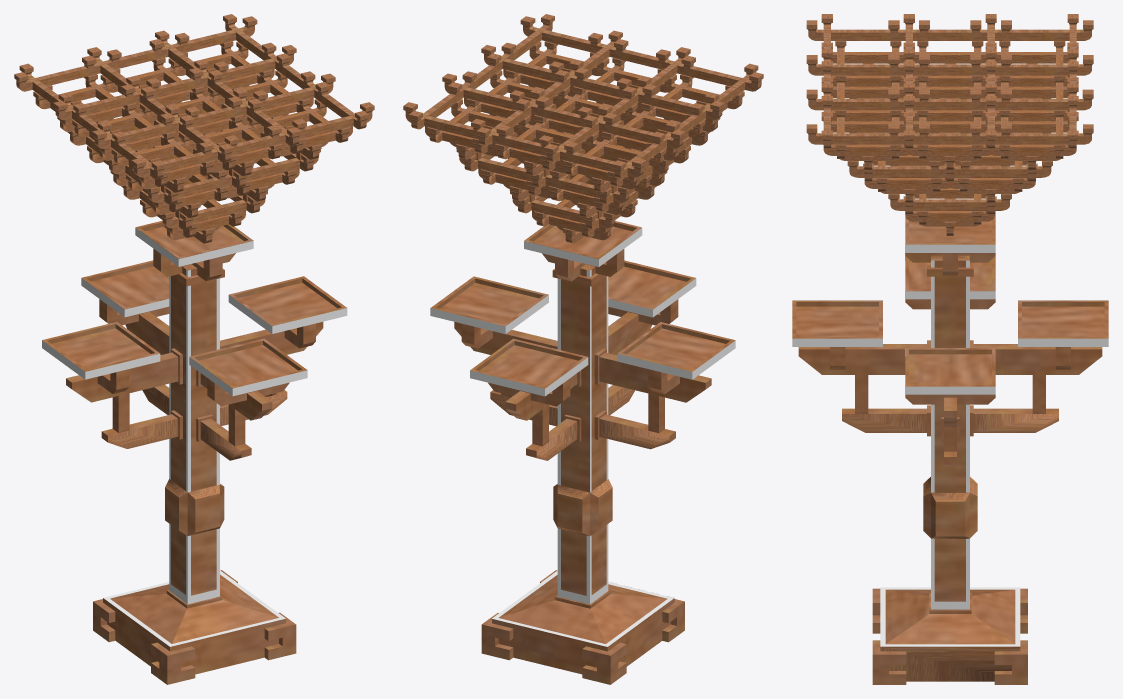
3 views of the same model, side by side, from view 1: azimuth 30°, elevation 25°; view 2: azimuth 150°, elevation 25°; view 3: azimuth 270°, elevation 25° (orthographic). The views are drawn at different scales.
Parts seen in each view (by area): view 1: R5L5; view 2: R5L5; view 3: R5L5.
Boxes of the visible parts, bbox=[...] form: R5L5: bbox=[14, 14, 374, 684]; R5L5: bbox=[403, 14, 763, 684]; R5L5: bbox=[792, 14, 1108, 684].
Size of the model in its own units: 34.54 by 69.52 by 34.54.
2 materials, 1 textured.
